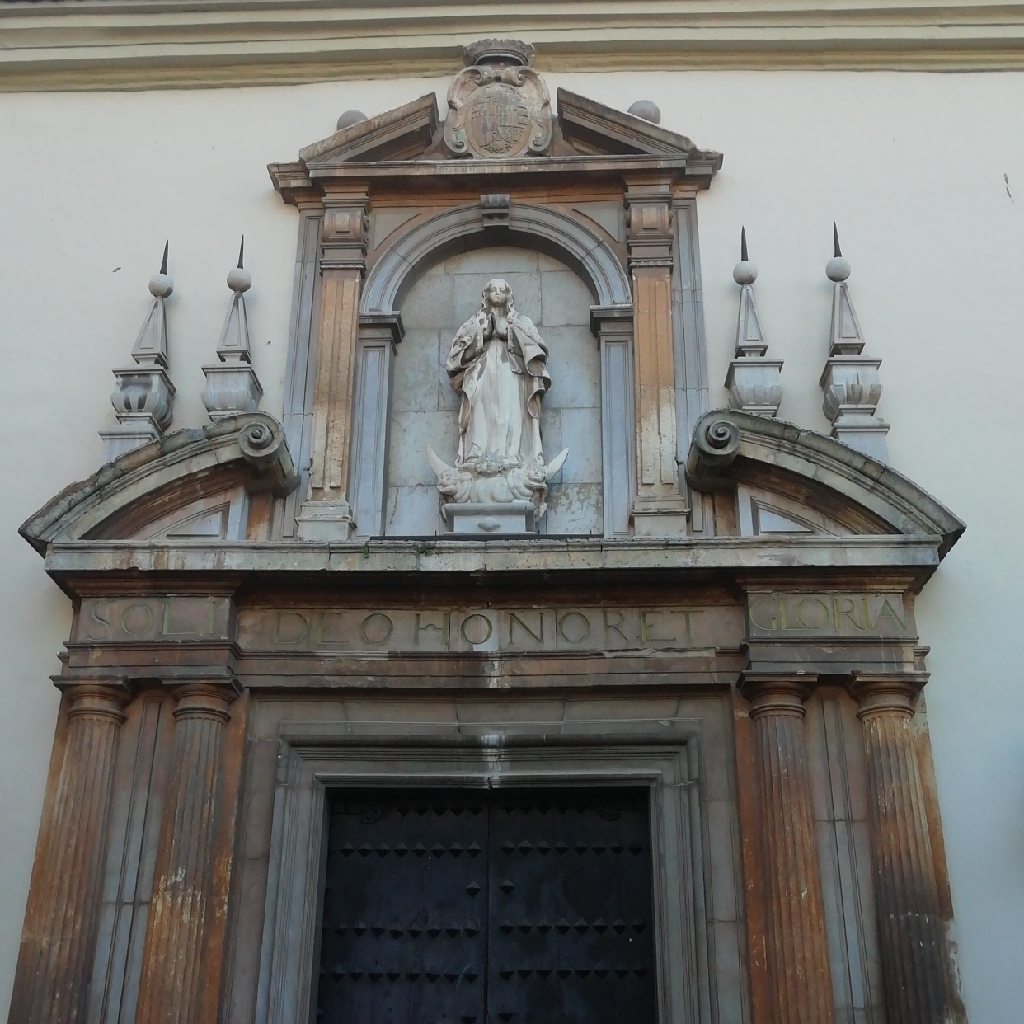arco-medio-punto: (376, 216, 619, 350)
fronton-partido: (37, 408, 995, 582), (283, 86, 693, 185)
vano-adintelado: (237, 700, 711, 1024)
